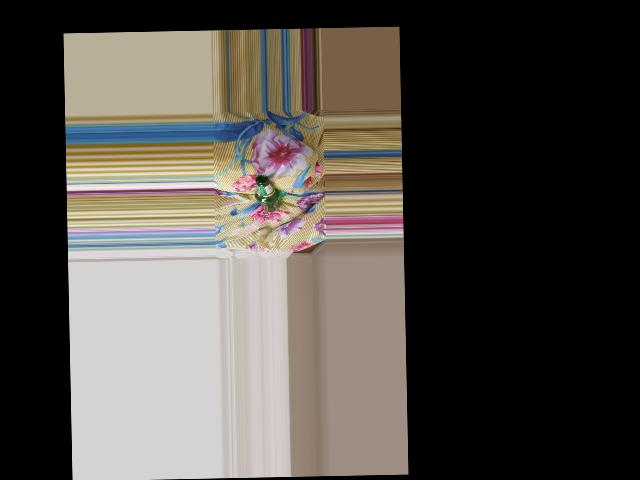beer: (254, 174, 279, 212)
